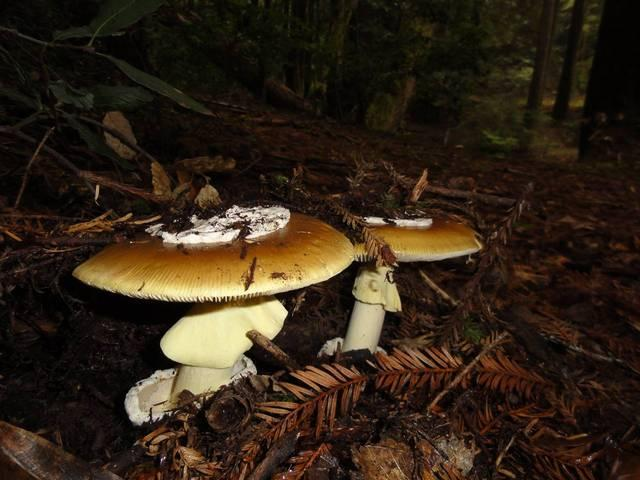Edible Mushroom: (70, 202, 355, 426), (338, 209, 484, 358)
